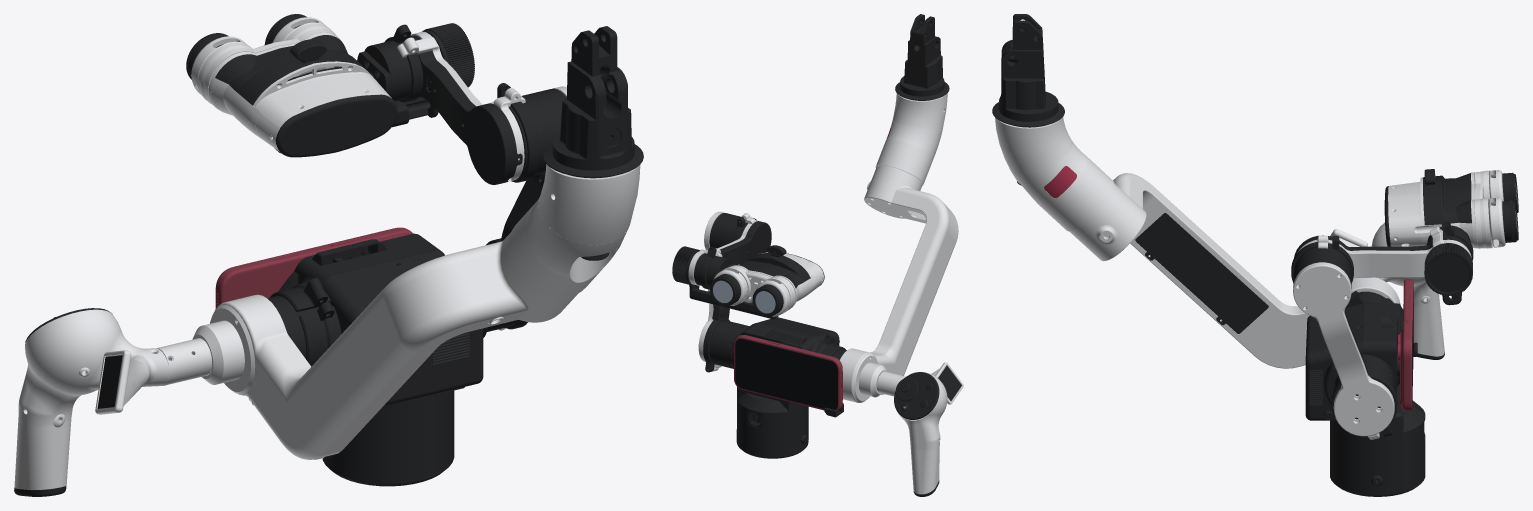
Rendered from dpmini.glb.
3 views of the same model, side by side, from view 1: azimuth 30°, elevation 25°; view 2: azimuth 150°, elevation 25°; view 3: azimuth 270°, elevation 25° (orthographic). The views are drawn at different scales.
Visible parts, largest first — view 1: mesh_0, mesh_7, mesh_65, mesh_62, mesh_25; view 2: mesh_0, mesh_7, mesh_1, mesh_64, mesh_65, mesh_25, mesh_36, mesh_62; view 3: mesh_0, mesh_7, mesh_65, mesh_25, mesh_66.
Boxes of the visible parts, x1,y1,x2,y2 form: mesh_0: (14,17,640,489); mesh_7: (215,23,643,486); mesh_65: (215,227,413,308); mesh_62: (97,355,122,408); mesh_25: (186,14,306,79); mesh_0: (688,93,963,494); mesh_7: (672,14,949,458); mesh_1: (735,339,837,409); mesh_64: (894,372,939,419); mesh_65: (734,335,842,410); mesh_25: (710,274,783,316); mesh_36: (713,280,775,313); mesh_62: (938,365,961,400); mesh_0: (995,117,1505,439); mesh_7: (992,14,1473,496); mesh_65: (1397,279,1413,411); mesh_25: (1502,172,1518,242); mesh_66: (1044,166,1076,198).
Size of the model in its own units: 0.3657 by 0.4479 by 0.4776.
